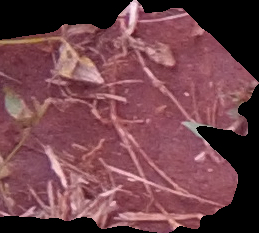soil: (2, 3, 258, 233)
